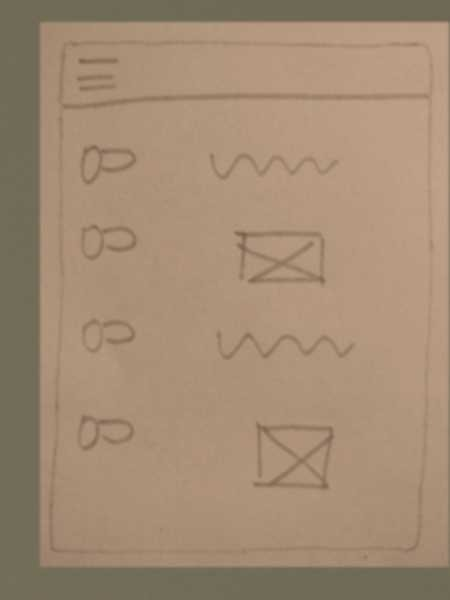image: (232, 218, 327, 292), (243, 418, 338, 492)
switch: (75, 140, 142, 187), (75, 215, 142, 262), (75, 312, 142, 359), (72, 411, 138, 458)
text: (205, 146, 350, 189), (210, 324, 355, 367)
